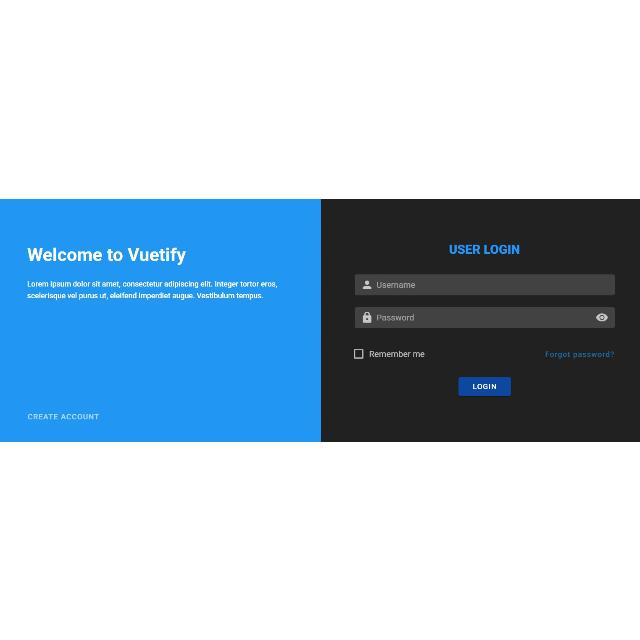QLabel: (27, 245, 186, 263), (27, 280, 281, 288), (27, 292, 270, 300), (449, 243, 521, 255), (544, 350, 616, 358), (27, 413, 99, 421), (368, 350, 426, 358), (472, 383, 498, 389)
VBtn: (458, 376, 512, 396)
VCheckbox: (353, 348, 363, 358)
VTextField: (354, 272, 616, 296), (354, 306, 616, 328)
